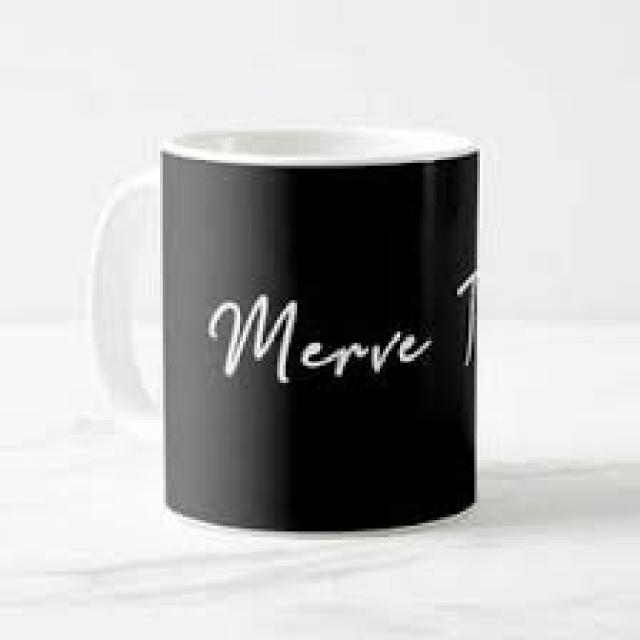taza: (89, 125, 482, 534)
